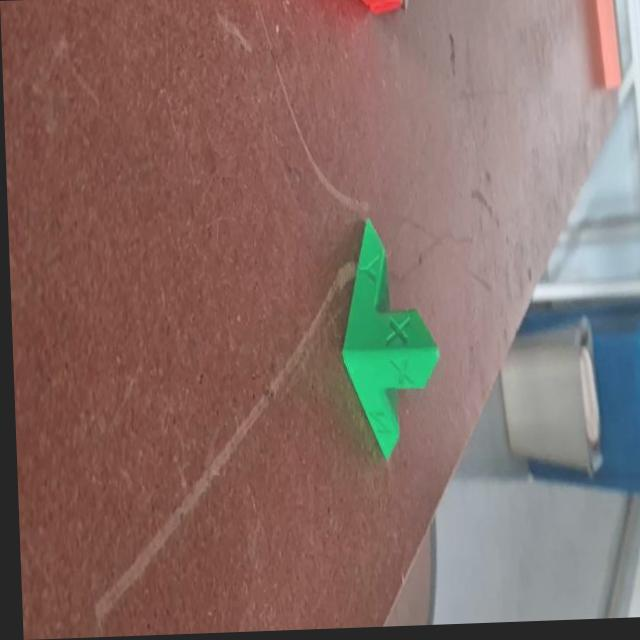eje: (335, 212, 445, 463)
